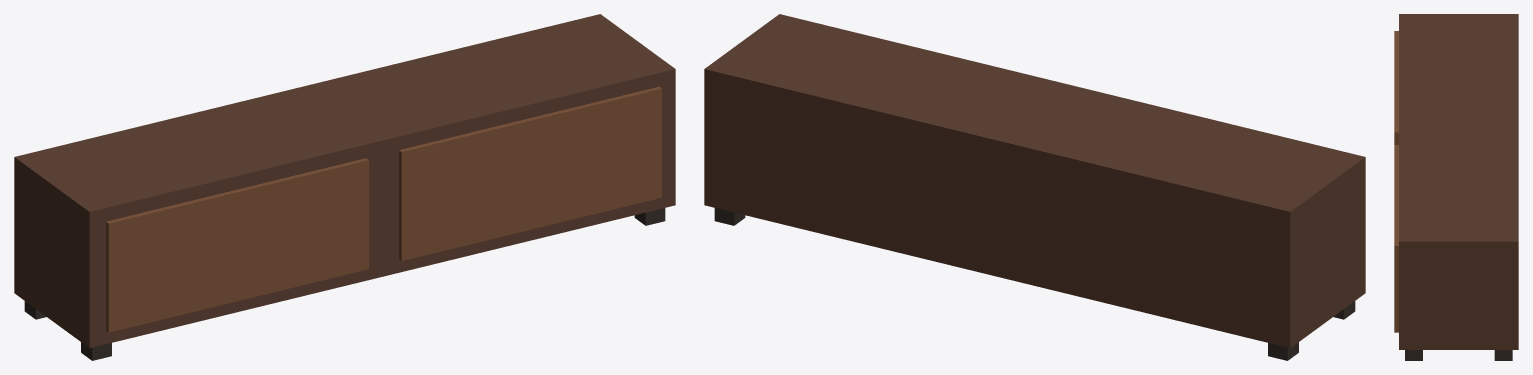
File: tv_walnut.glb
3 views of the same model, side by side, from view 1: azimuth 30°, elevation 25°; view 2: azimuth 150°, elevation 25°; view 3: azimuth 270°, elevation 25° (orthographic). The views are drawn at different scales.
Visible parts, largest first — view 1: tv_walnut; view 2: tv_walnut; view 3: tv_walnut.
Part boxes in pixels (<box>): tv_walnut: <box>14,14,675,360</box>; tv_walnut: <box>704,14,1365,360</box>; tv_walnut: <box>1394,14,1518,360</box>.
Size of the model in its own units: 1.8 by 0.45 by 0.415.
